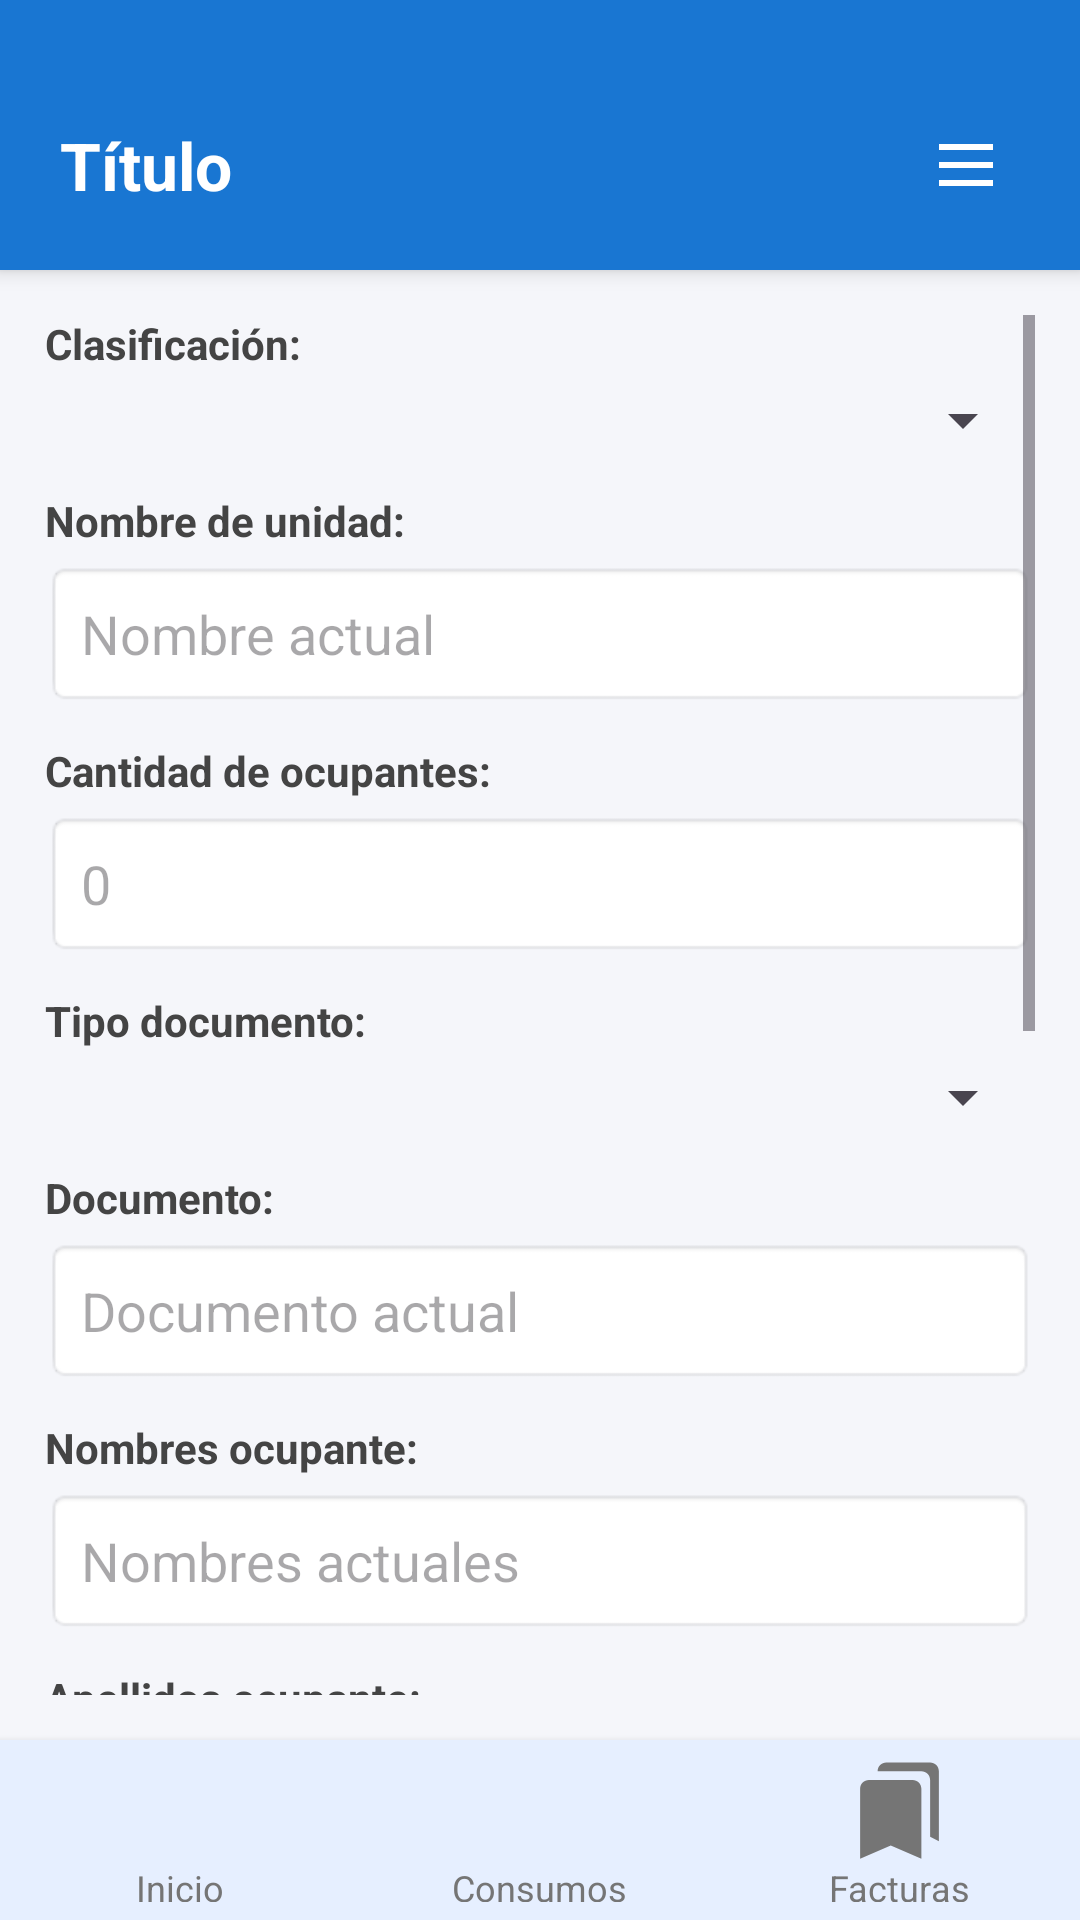

Icons on this 1080*1920 Android screen, each with the point to tap as [x,y]:
dash recibos: [899,1810]
Menú principal: [966,165]
